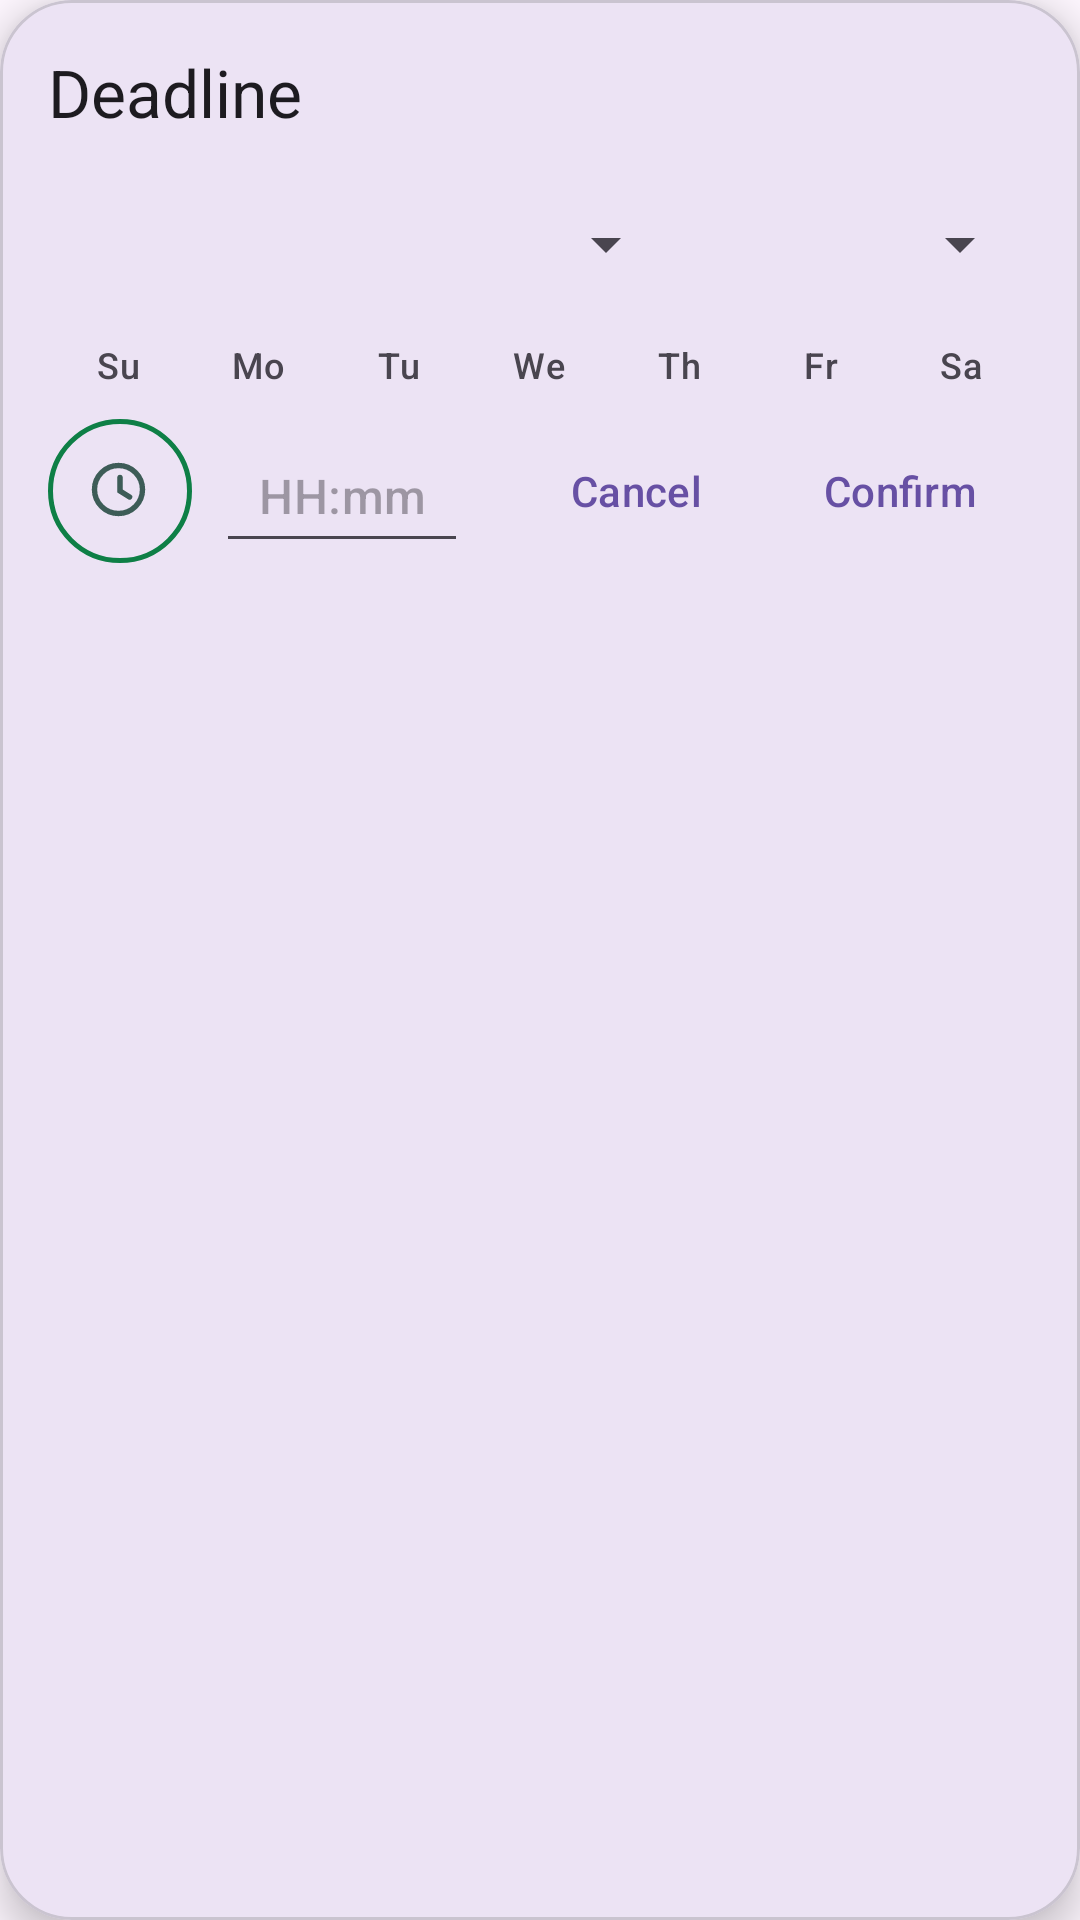

Locate icon controls on the screen. Image size 1080px x 1920px, boxes as (x1, y1, x2, y2).
All day: (48, 419, 192, 563)
